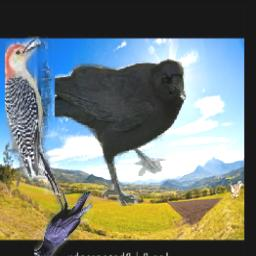Crow: (54, 58, 186, 206), (34, 184, 93, 256)
Cuckoo: (225, 175, 243, 199)
Woodpecker: (5, 36, 60, 195)
